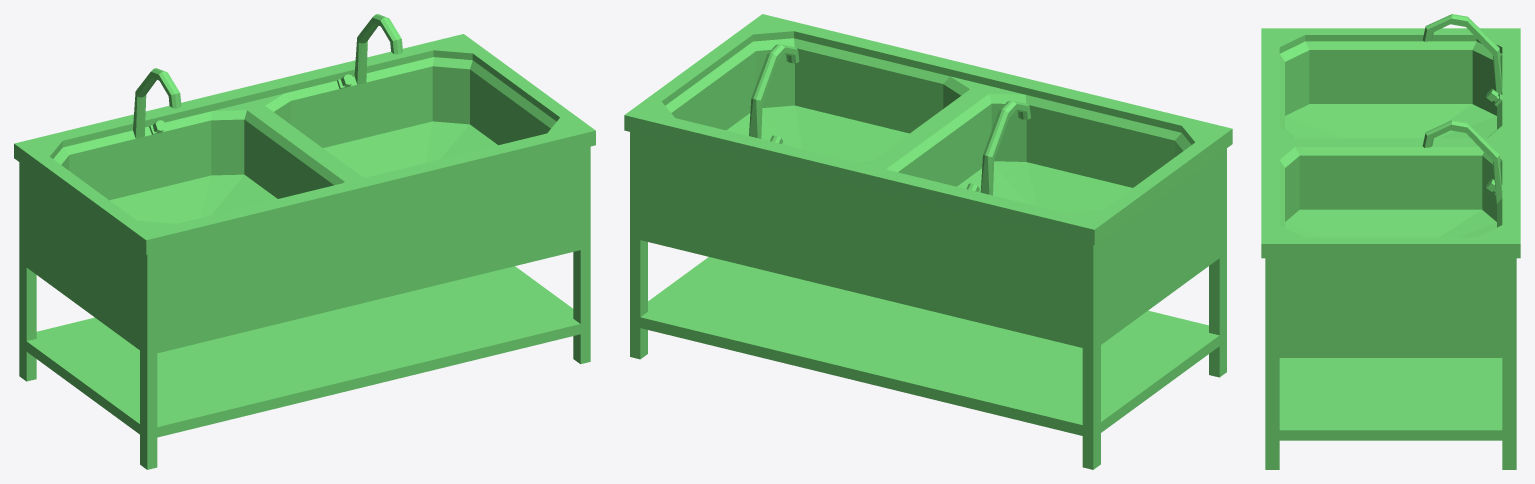
Rendered from Sink_01.fbx.
The picture shows the model from 3 angles, left to right: view 1: azimuth 30°, elevation 25°; view 2: azimuth 150°, elevation 25°; view 3: azimuth 270°, elevation 25°; orthographic projection. The views are drawn at different scales.
Parts seen in each view (by area): view 1: Sink_01; view 2: Sink_01; view 3: Sink_01.
Part boxes in pixels (x1,y1,x2,y2): Sink_01: [14, 14, 595, 469]; Sink_01: [624, 14, 1232, 469]; Sink_01: [1261, 14, 1520, 469].
Size of the model in its own units: 186 by 119 by 94.43.
